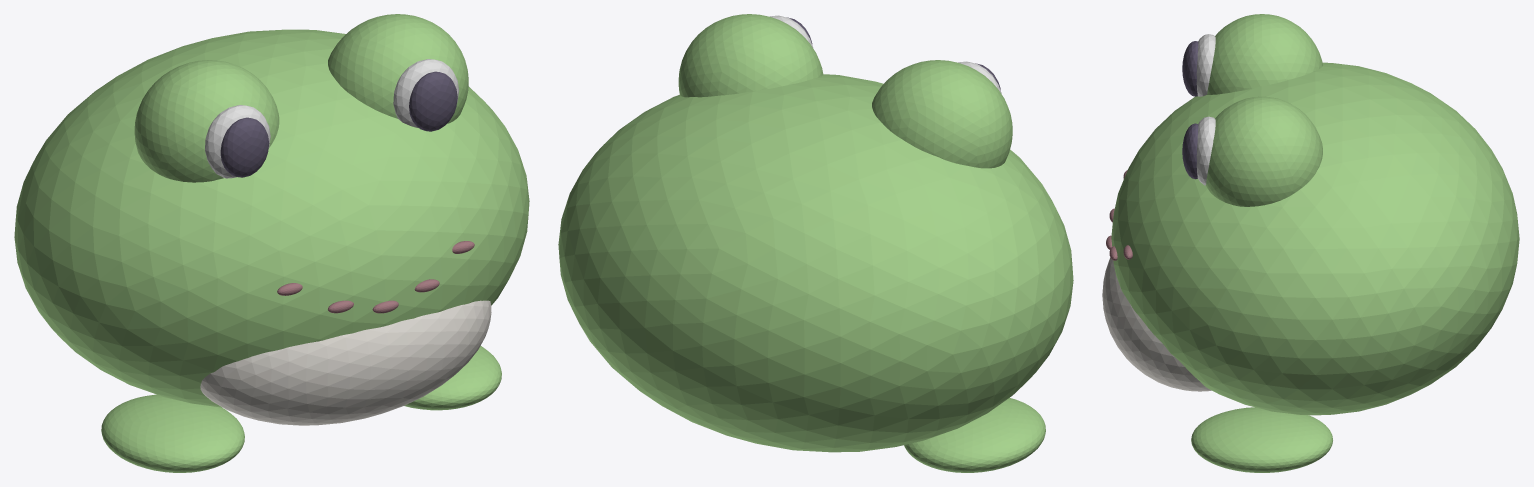
Rendered from gekomaru_leaf.glb.
The picture shows the model from 3 angles, left to right: view 1: azimuth 30°, elevation 25°; view 2: azimuth 150°, elevation 25°; view 3: azimuth 270°, elevation 25°; orthographic projection. The views are drawn at different scales.
Parts seen in each view (by area): view 1: gekomaru_0, gekomaru_1, gekomaru_2, gekomaru_5, gekomaru_6, gekomaru_9, gekomaru_8, gekomaru_4, gekomaru_3, gekomaru_7; view 2: gekomaru_0, gekomaru_2, gekomaru_6, gekomaru_5; view 3: gekomaru_0, gekomaru_6, gekomaru_9, gekomaru_2, gekomaru_1, gekomaru_7, gekomaru_3, gekomaru_4, gekomaru_8.
Boxes of the visible parts, box(x1,y1,x2,y2) form: gekomaru_0: box(14, 29, 529, 407); gekomaru_1: box(200, 300, 491, 425); gekomaru_2: box(134, 60, 279, 182); gekomaru_5: box(101, 394, 244, 472); gekomaru_6: box(328, 14, 468, 123); gekomaru_9: box(404, 346, 501, 410); gekomaru_8: box(409, 71, 457, 131); gekomaru_4: box(220, 117, 269, 177); gekomaru_3: box(205, 105, 270, 178); gekomaru_7: box(393, 59, 459, 127); gekomaru_0: box(558, 74, 1073, 452); gekomaru_2: box(872, 60, 1012, 168); gekomaru_6: box(678, 14, 823, 97); gekomaru_5: box(904, 397, 1045, 472); gekomaru_0: box(1111, 62, 1519, 415); gekomaru_6: box(1206, 96, 1322, 206); gekomaru_9: box(1191, 407, 1332, 472); gekomaru_2: box(1207, 14, 1322, 94); gekomaru_1: box(1102, 257, 1211, 391); gekomaru_7: box(1196, 116, 1215, 185); gekomaru_3: box(1196, 34, 1215, 96); gekomaru_4: box(1182, 41, 1198, 96); gekomaru_8: box(1182, 123, 1198, 179).
Size of the model in its own units: 1.4 by 1.11 by 1.22.
